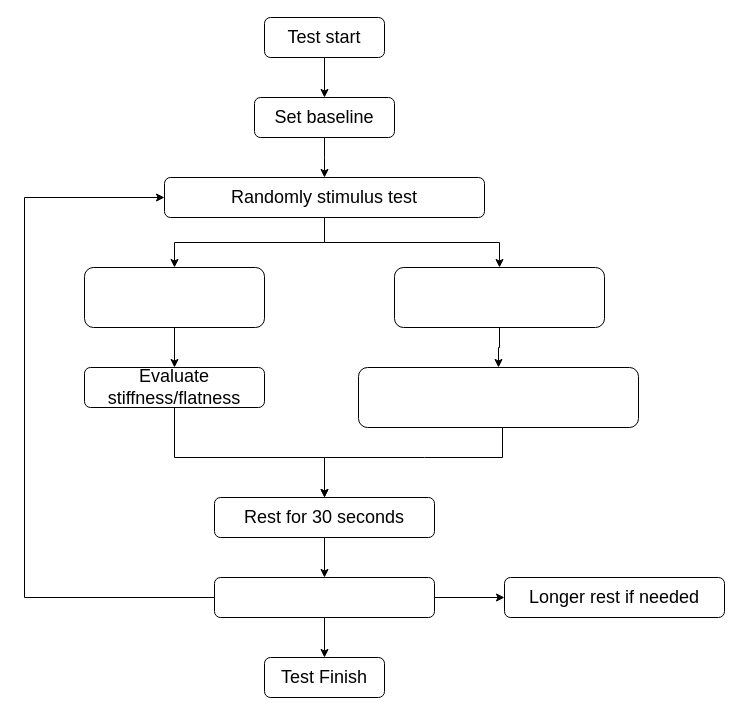
Image size: 742x715. Some labels were removed from this diagram. The shapes that lost their labels are listed below. From the top down, each one's centre as x and y in pixels, then its label:
(x=174, y=297): Static force (repeat if needed)
(x=499, y=297): Vibration (repeat if needed)
(x=498, y=397): Evaluate stiffness/flatness/roughness
(x=324, y=597): Repeat for 15 * 3 times
